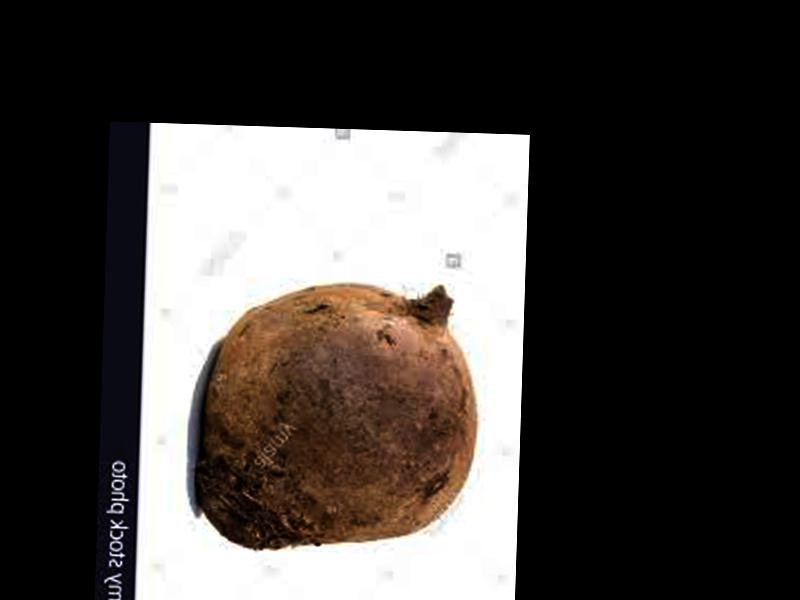Beet: (194, 277, 480, 554)
